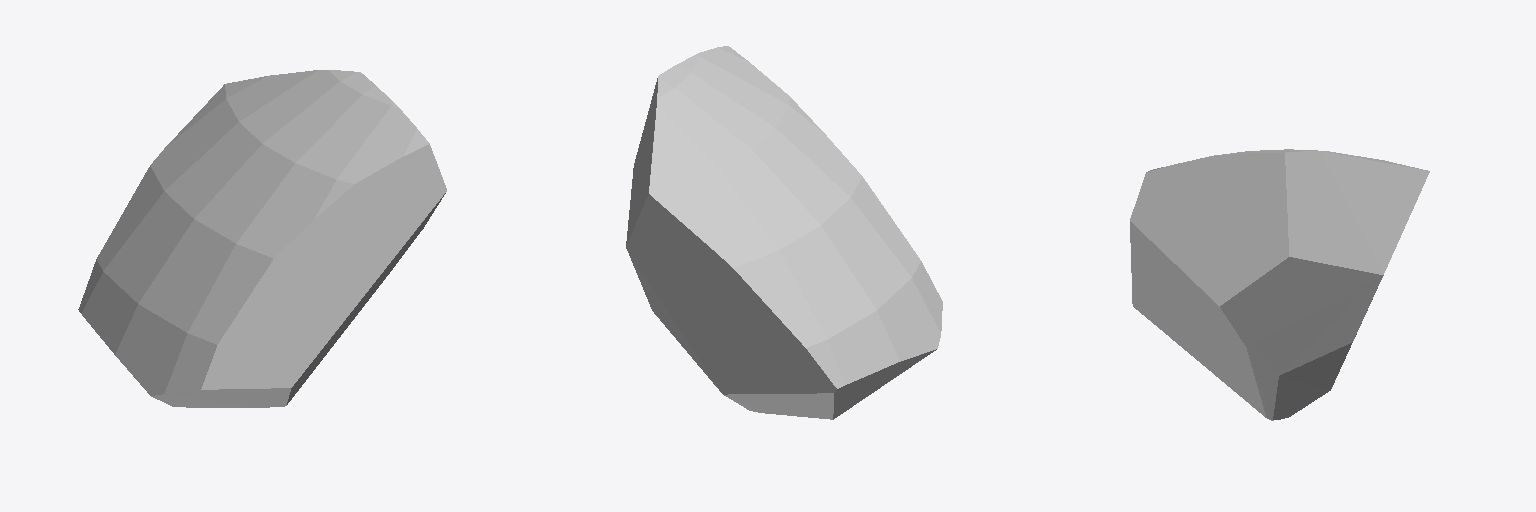
File: Sphere_Cell_Fracture11.obj
3 views of the same model, side by side, from view 1: azimuth 30°, elevation 25°; view 2: azimuth 150°, elevation 25°; view 3: azimuth 270°, elevation 25° (orthographic).
Size of the model in its own units: 0.6112 by 0.6615 by 0.5781.